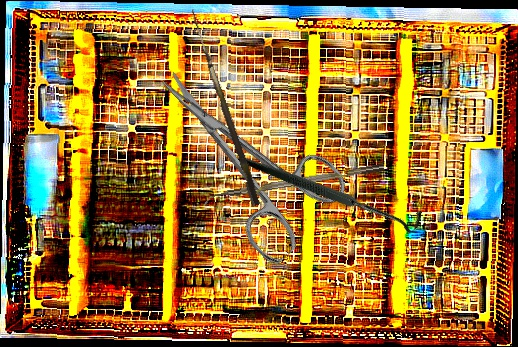Chopper: (201, 163, 387, 209)
Hook Surgical: (237, 91, 428, 287), (182, 9, 264, 207)
Iris Scissors: (129, 35, 357, 269)
